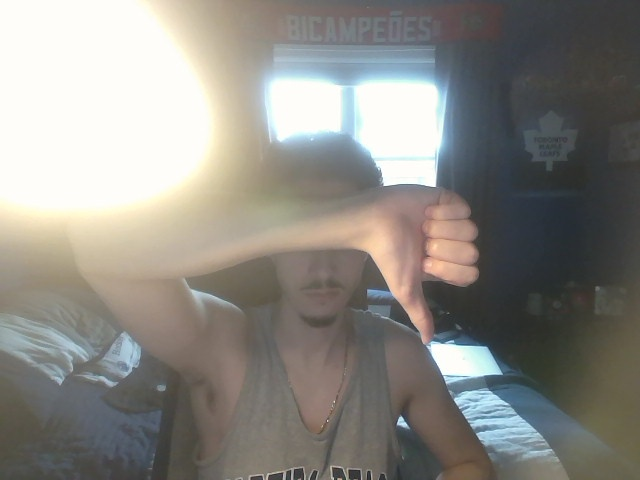ThumbsDown: (368, 184, 480, 345)
